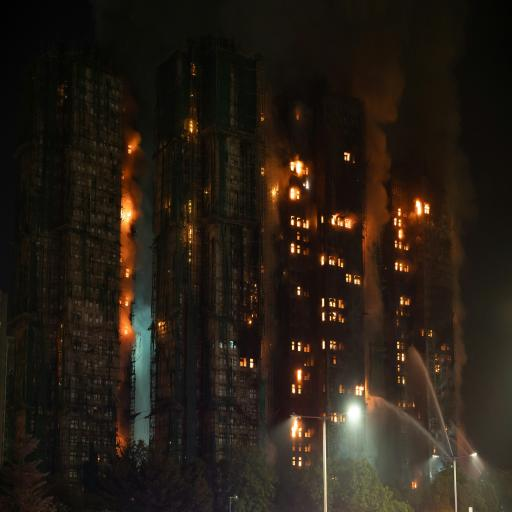buildingfire: (14, 8, 512, 512)
